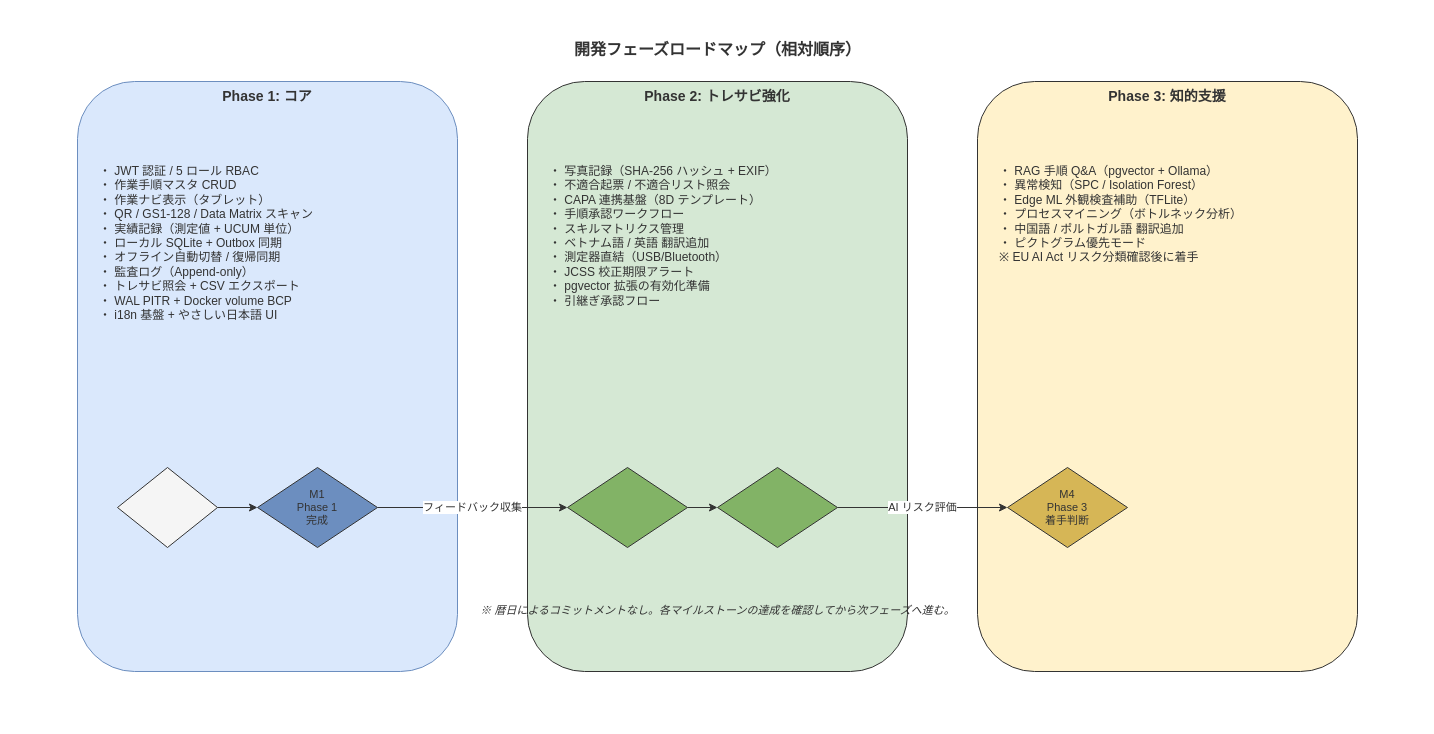
Image size: 1434x734. Some labels were removed from this diagram. Here are the shapes that lost their labels. From the top down, the centre of each, then its label:
At point (167, 507): "M0 基盤整備".
At point (627, 507): "M2 パイロット 運用".
At point (777, 507): "M3 Phase 2 完成".
